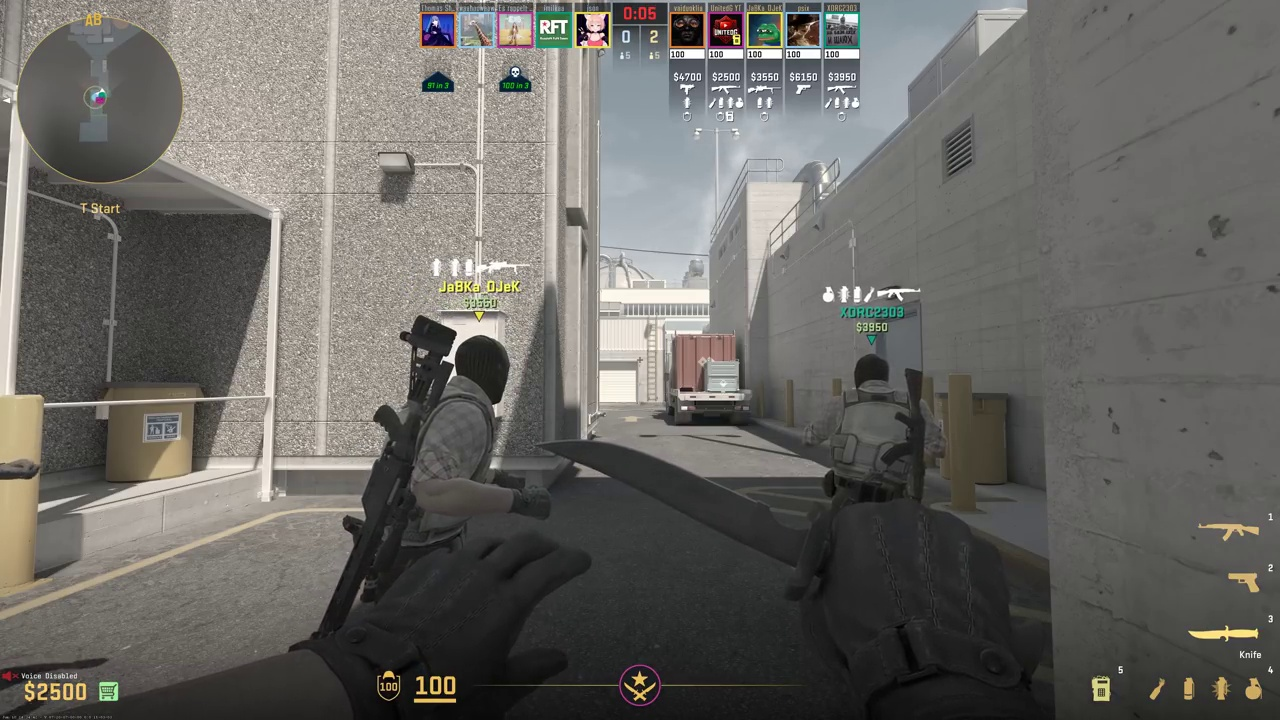Terrorist: (370, 335, 551, 588), (821, 353, 925, 505)
